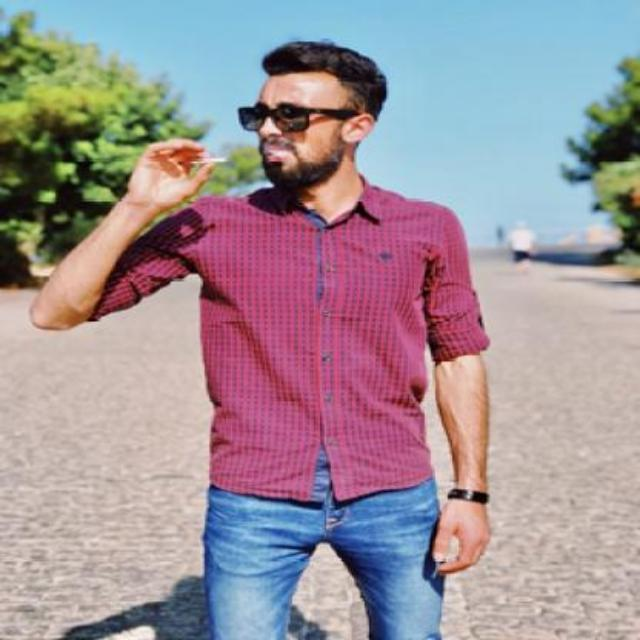sunglasses: (232, 106, 358, 132)
